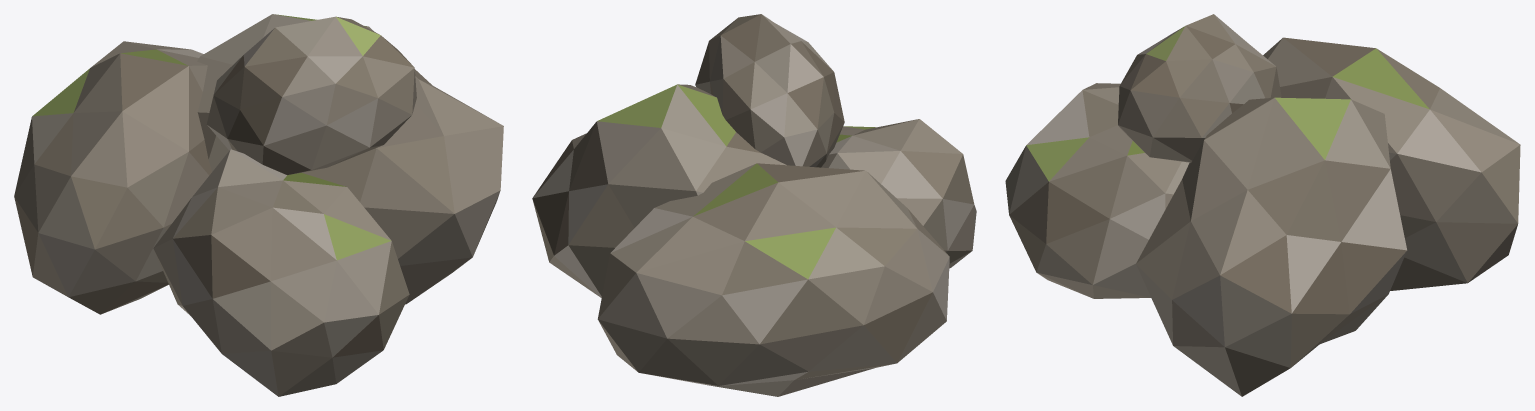
File: CollapsedRocks_d.fbx
3 renders of one model, left to right at view 1: azimuth 30°, elevation 25°; view 2: azimuth 150°, elevation 25°; view 3: azimuth 270°, elevation 25°, orthographic. The views are drawn at different scales.
Visible parts, largest first — view 1: CollapsedRocks_d; view 2: CollapsedRocks_d; view 3: CollapsedRocks_d.
Part boxes in pixels (bbox=[...]): CollapsedRocks_d: bbox=[14, 14, 503, 396]; CollapsedRocks_d: bbox=[532, 14, 976, 396]; CollapsedRocks_d: bbox=[1005, 14, 1520, 396].
Size of what is drawn, in the model's own units: 82.5 by 58.52 by 88.1.
